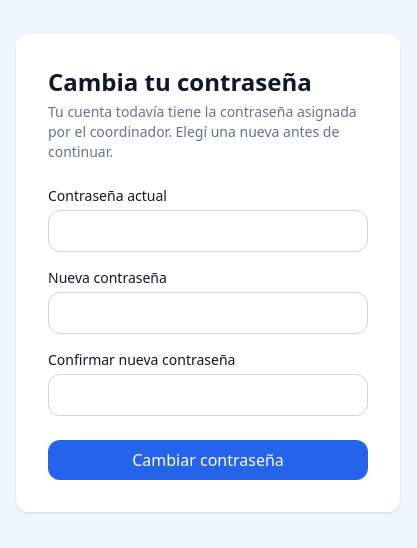
ChangePasswordPage › muestra el error que devuelve la función
Type "mala" into the password field labelled "Contraseña actual" at (208, 231), box [48, 210, 368, 252]
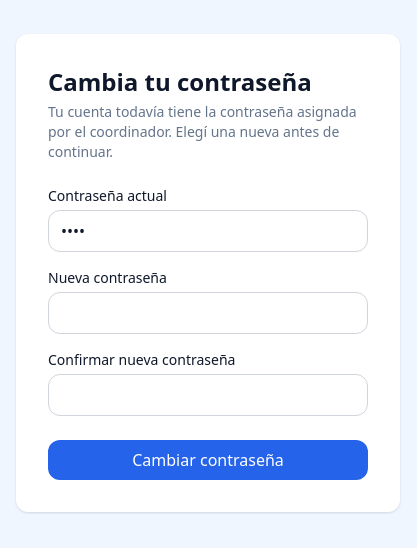
Type "nueva1234" into the password field labelled "Nueva contraseña" at (208, 313), box [48, 292, 368, 334]
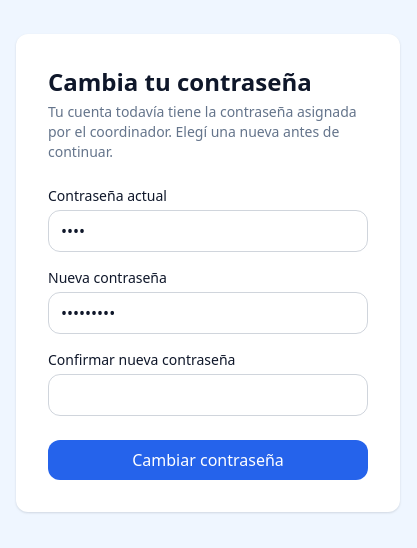
Type "nueva1234" into the password field labelled "Confirmar nueva contraseña" at (208, 395), box [48, 374, 368, 416]
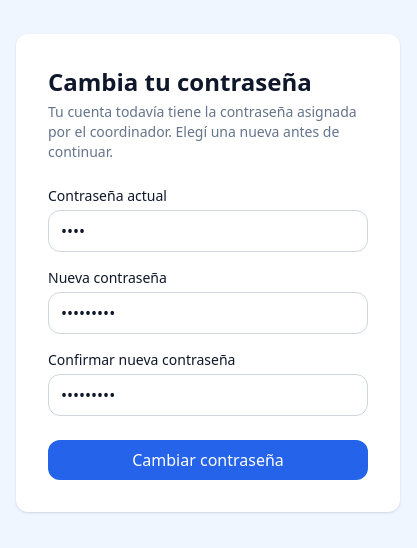
Click the button "Cambiar contraseña" at (208, 460), box [48, 440, 368, 480]
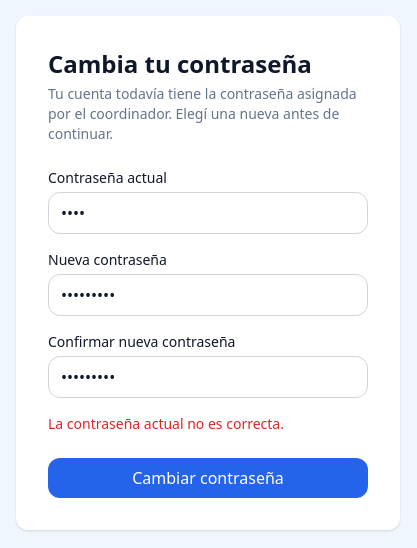
Expected: the message reads "La contraseña actual no es correcta.", [48, 414, 284, 433]
